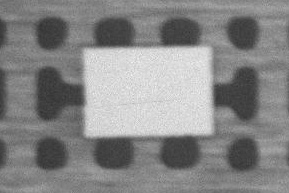DIE_CRACK: (151, 66, 268, 71)
